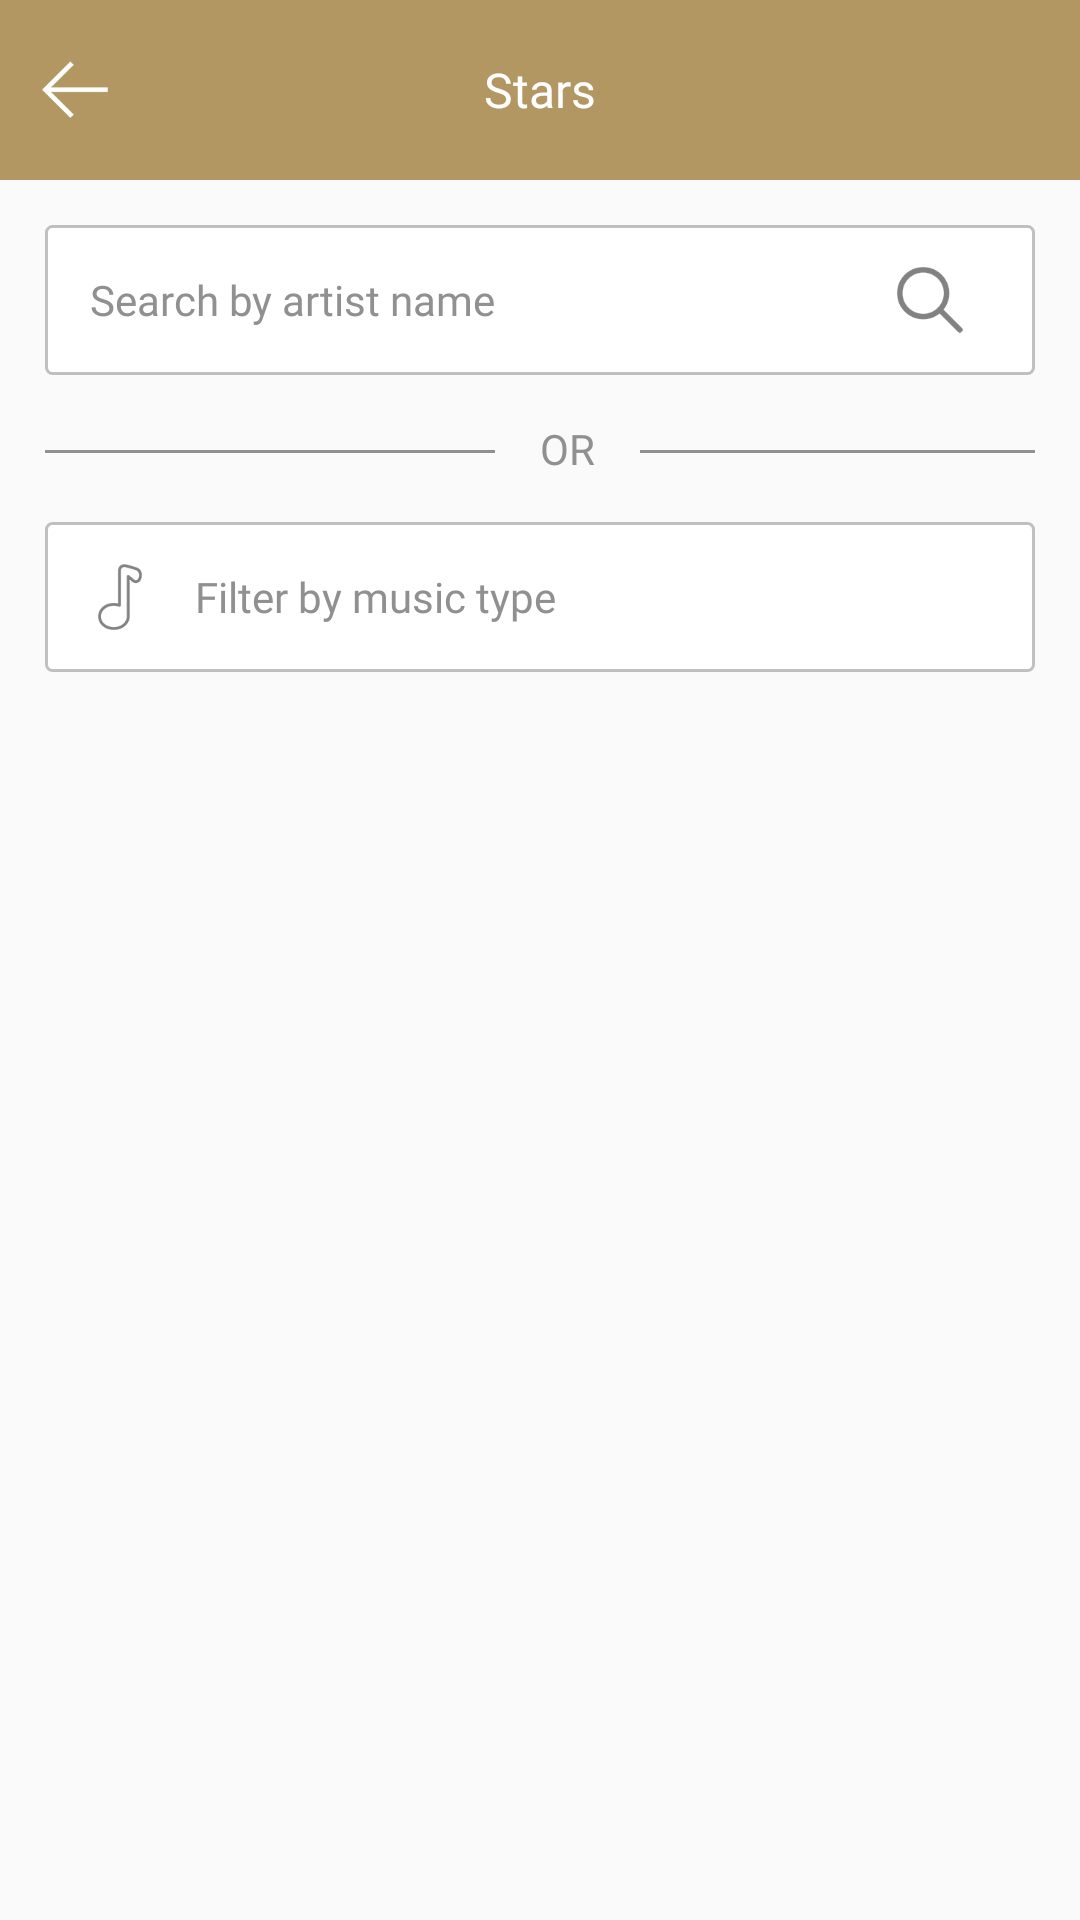

Icons on this 1080*1920 Android screen, each with its box as (x1, y1, x2, y2):
back: (42, 61, 108, 118)
mucise: (45, 522, 195, 672)
